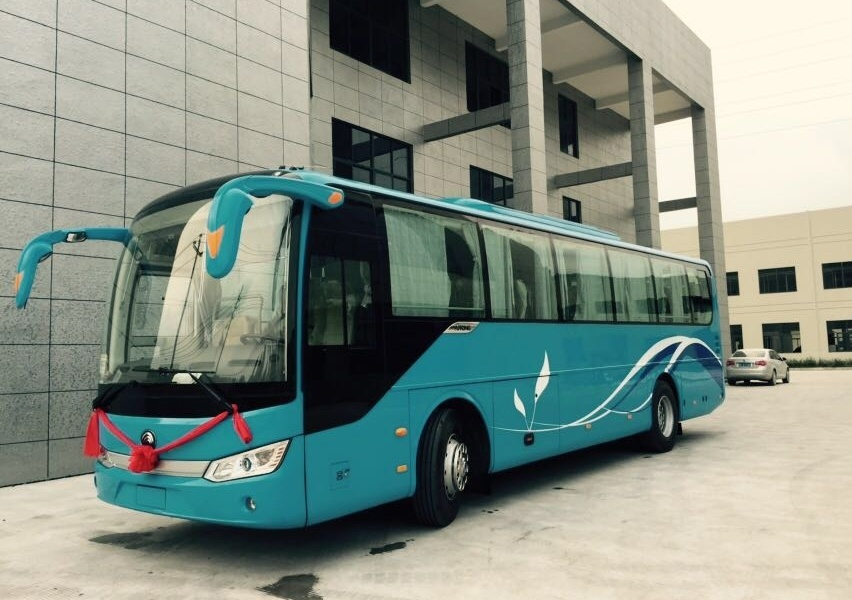bus: (23, 164, 732, 534)
